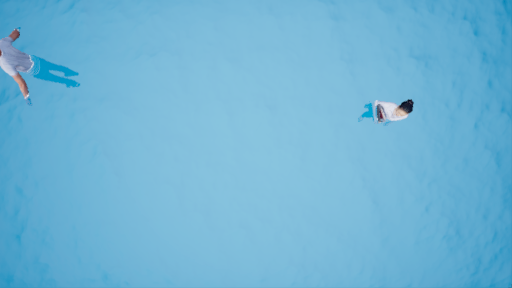person: (1, 27, 80, 108), (358, 97, 415, 127)
